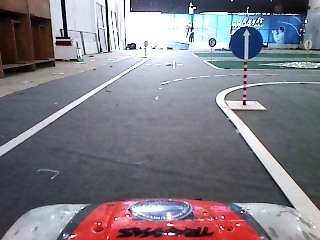straight: (228, 24, 264, 63)
